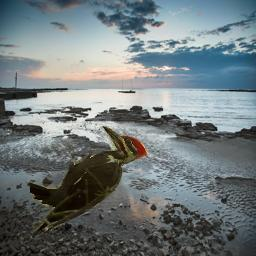Woodpecker: (30, 126, 149, 236)
